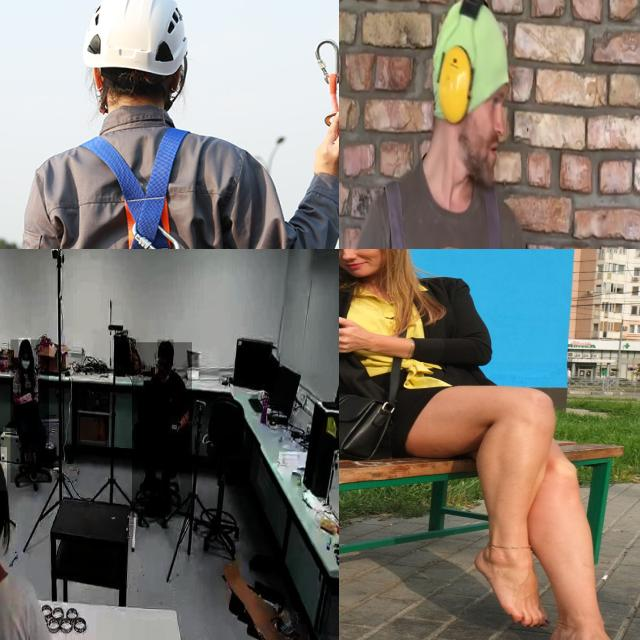Barefoots: (474, 546, 552, 628), (549, 624, 640, 640)
Ear-protection: (430, 0, 512, 185)
Harness: (57, 123, 248, 249)
face_nomask: (157, 357, 171, 378)
hand_glove: (19, 354, 33, 376)
hand_noglove: (168, 416, 182, 433), (20, 391, 32, 403)
head_nohelmet: (158, 339, 174, 356), (18, 338, 32, 352)
person: (132, 342, 192, 518), (0, 457, 54, 640), (10, 340, 50, 482)
